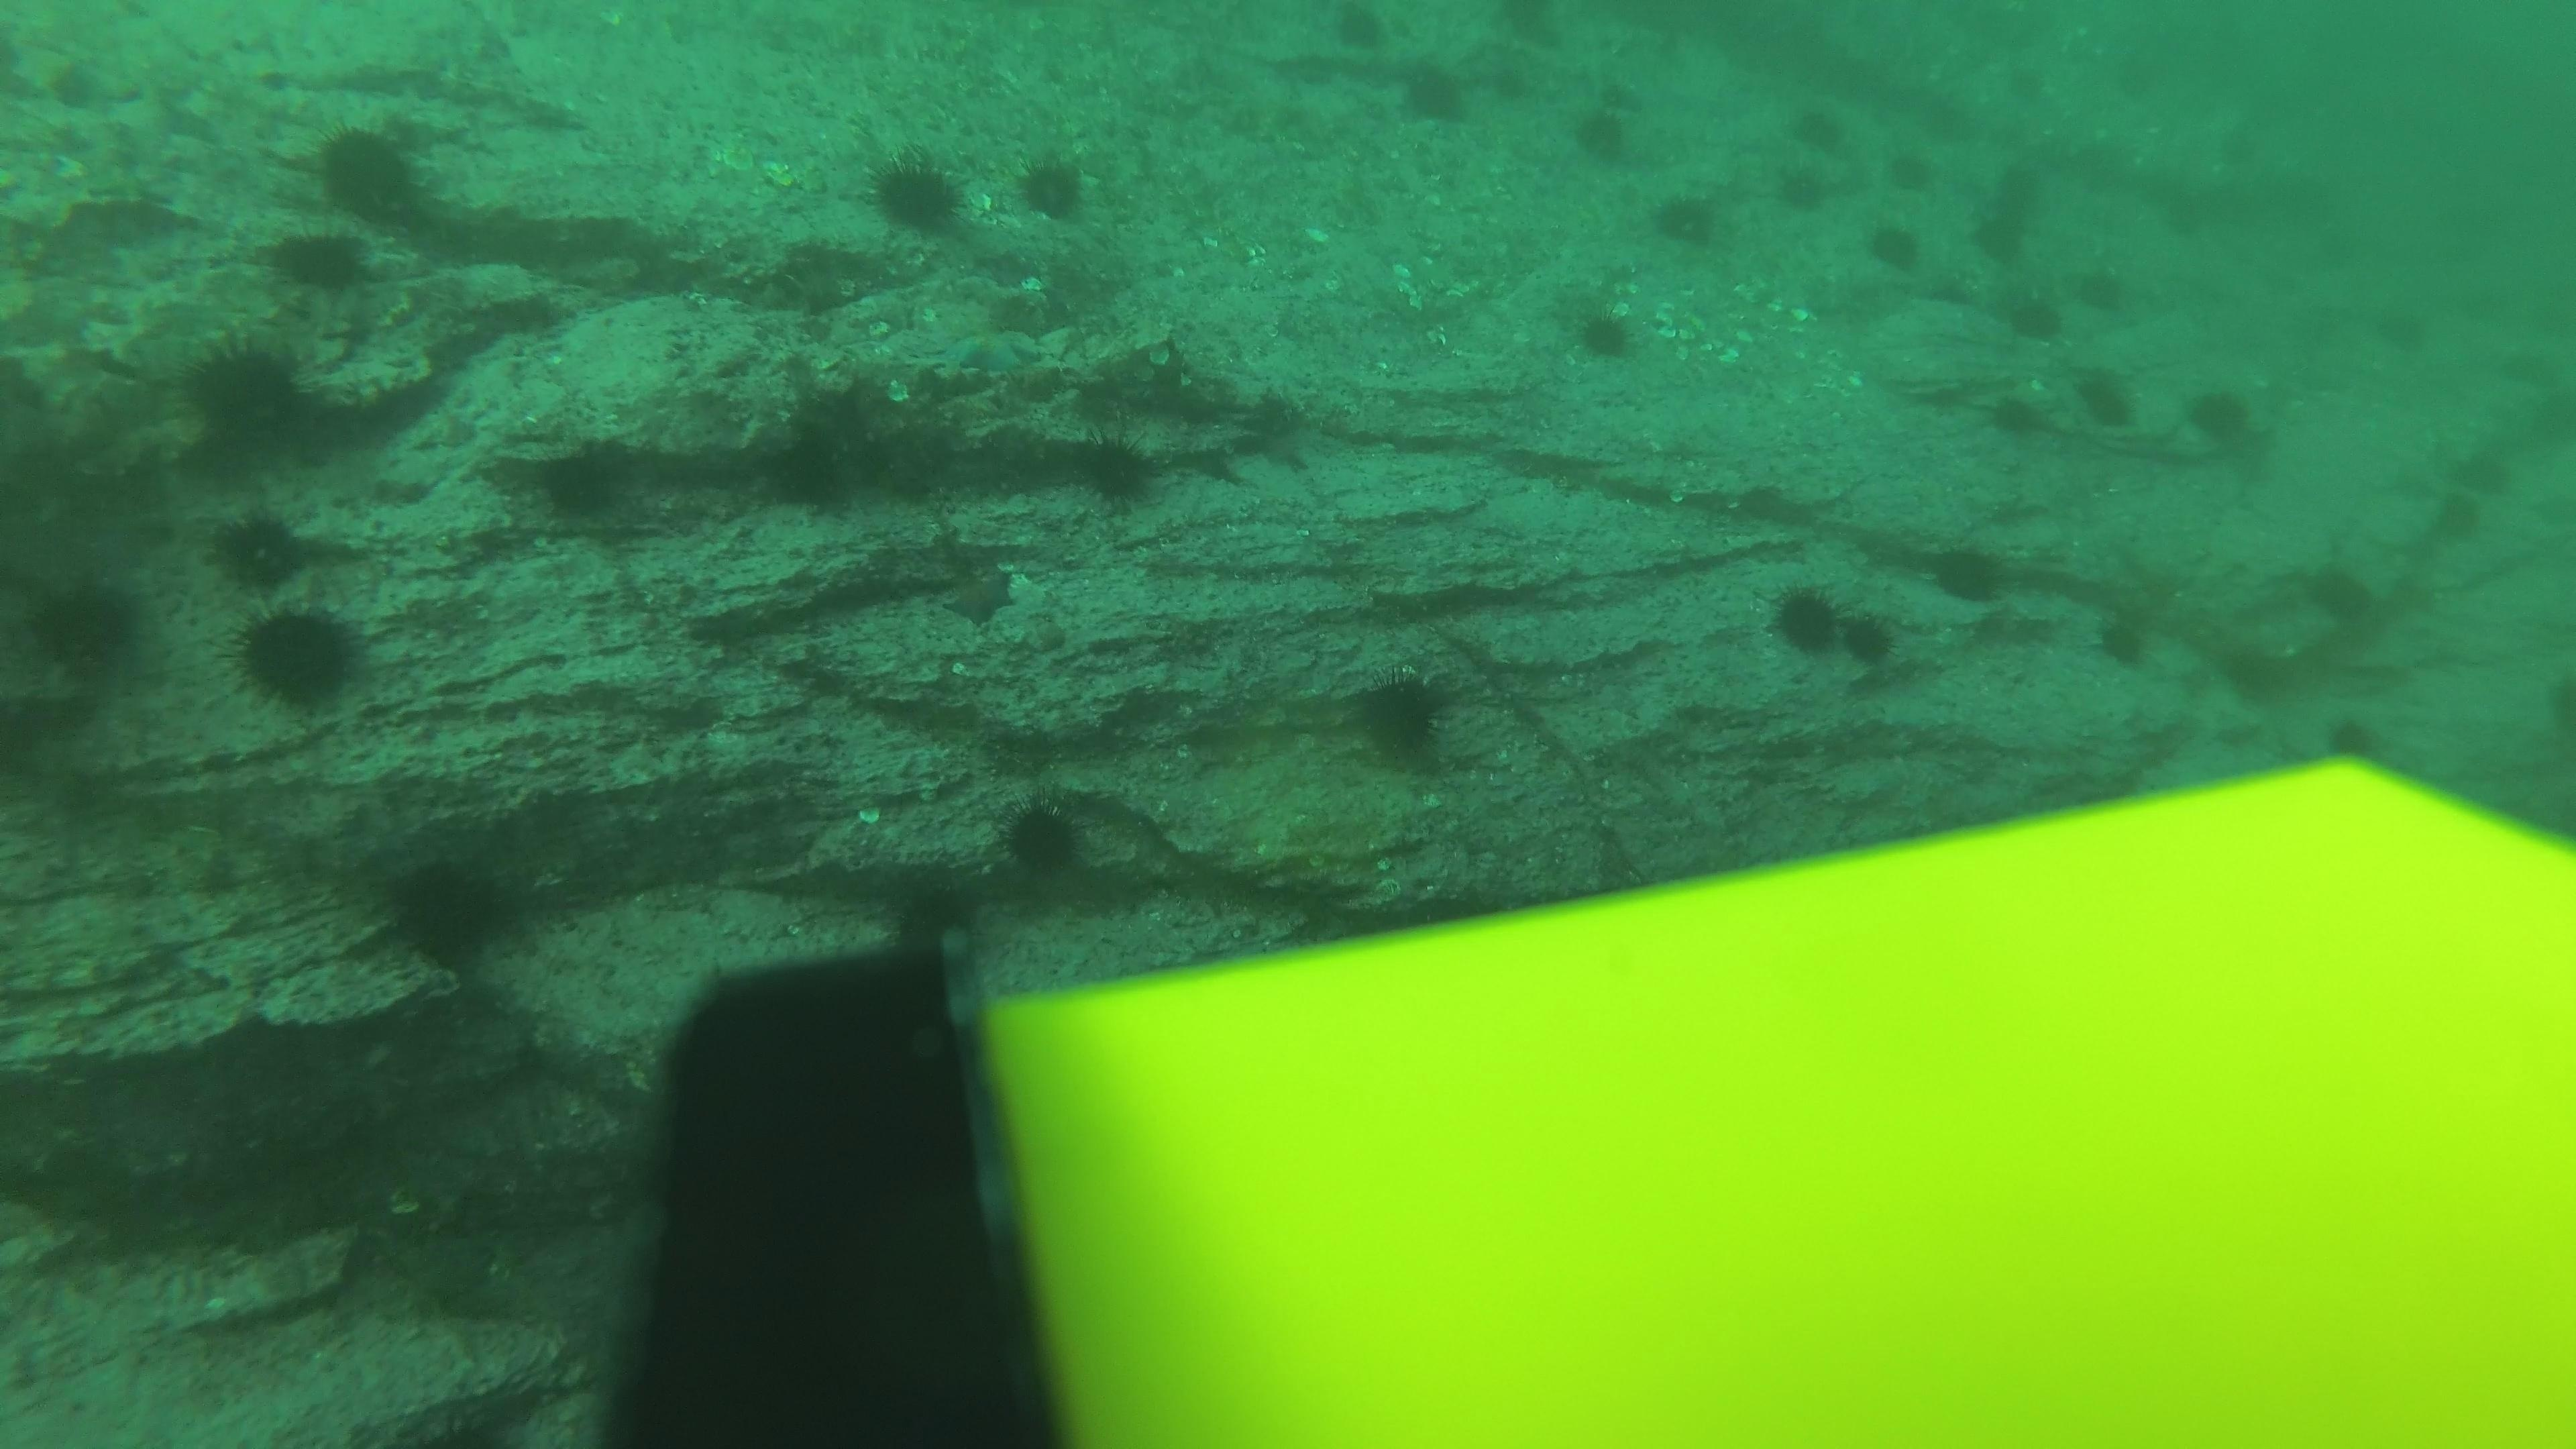echinus: (175, 333, 318, 467), (370, 847, 522, 971), (228, 596, 368, 713), (304, 115, 435, 230), (19, 571, 150, 686), (1343, 663, 1465, 775), (989, 791, 1097, 888), (862, 145, 970, 239), (205, 502, 315, 594), (525, 439, 635, 531), (262, 221, 377, 303), (883, 869, 982, 957), (1072, 430, 1166, 513), (2180, 379, 2272, 460), (1010, 145, 1097, 226), (1762, 577, 1844, 660), (1391, 55, 1477, 133), (1923, 536, 2013, 609), (1566, 92, 1644, 170), (1564, 297, 1644, 368), (1647, 184, 1727, 255), (2302, 704, 2376, 777), (2311, 556, 2385, 628), (2489, 327, 2564, 400), (2360, 297, 2434, 370), (2074, 602, 2148, 672), (1849, 616, 1923, 686), (2415, 481, 2489, 552), (2440, 446, 2514, 517), (2070, 364, 2141, 433), (1323, 2, 1399, 55), (1863, 216, 1925, 274), (1985, 379, 2043, 441), (2010, 285, 2068, 347), (1882, 127, 1941, 189), (2074, 267, 2130, 329), (1782, 156, 1838, 214), (1789, 103, 1851, 156), (1967, 214, 2026, 264), (1987, 159, 2045, 209), (2006, 57, 2065, 106), (2116, 53, 2173, 103), (2153, 195, 2210, 244), (2319, 219, 2376, 269), (2208, 127, 2254, 177)
starfish: (925, 322, 1051, 384), (931, 557, 1024, 630)
